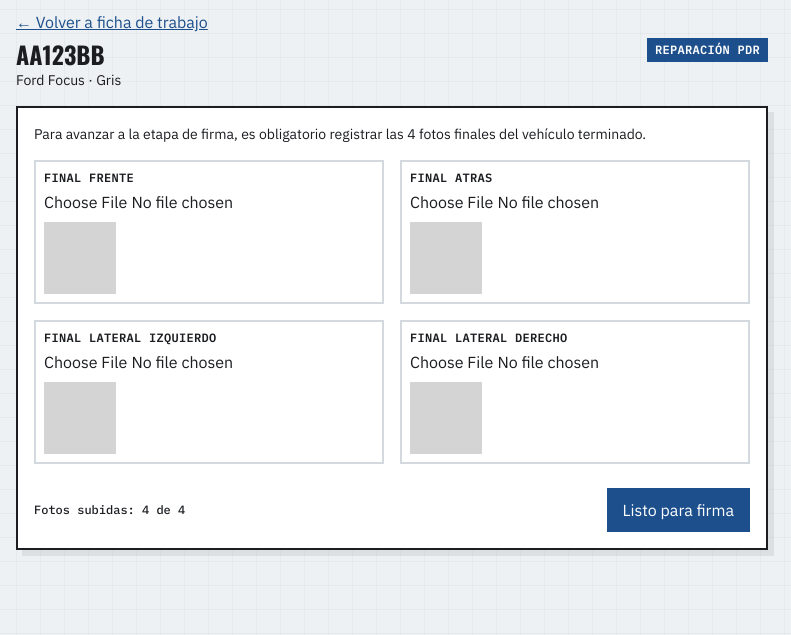
Scenario: CierreReparacionPage › muestra errores de transición y mantiene controles interactivos seguros para reintento
Click the button "Listo para firma": (678, 510) [607,488,750,532]
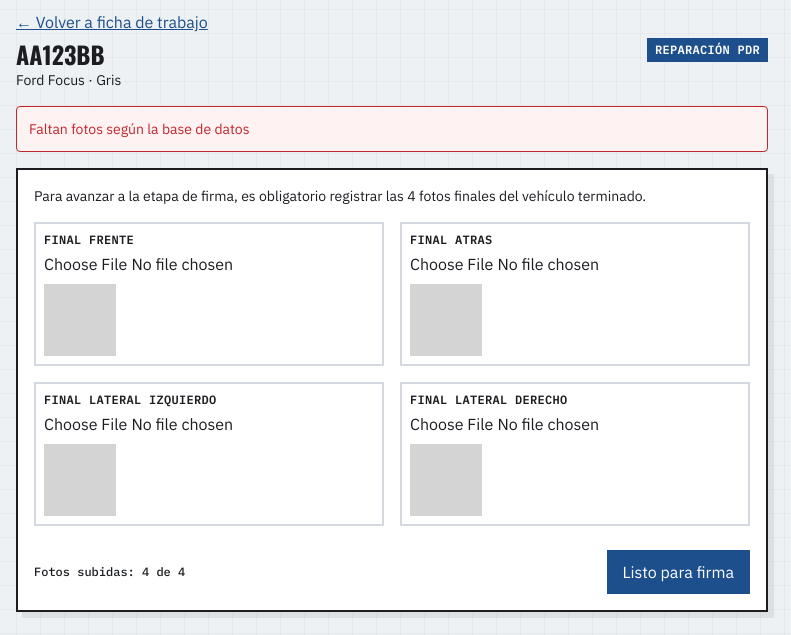
expect the button "Listo para firma" is enabled: met, box [607,550,750,594]
expect the message reads "Faltan fotos según la base de datos": met, box [29,120,250,138]
